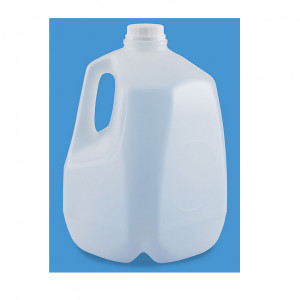Rec_Plastic: (65, 22, 226, 260)
